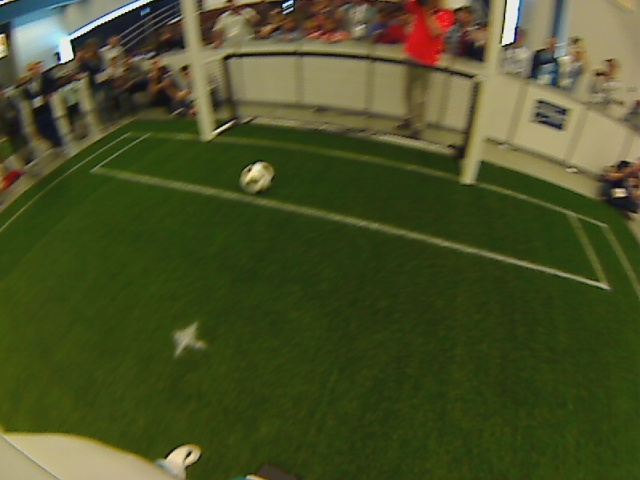ball: (238, 159, 274, 194)
